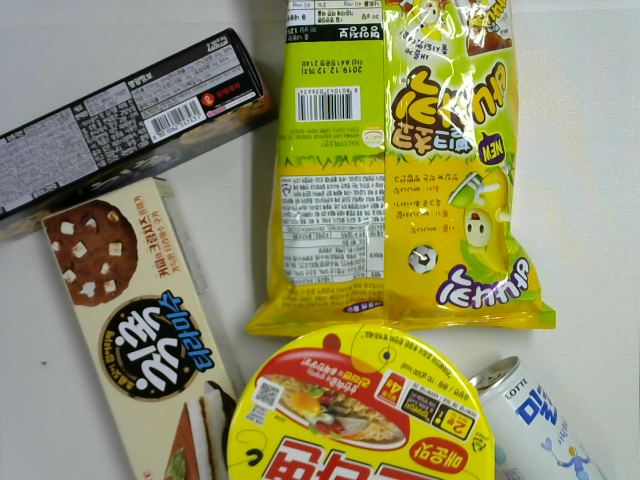Banana_Kick: (240, 1, 563, 350)
Chicchok_Original_2400: (1, 27, 276, 248)
Chicchok_Tiramisu: (33, 176, 252, 480)
Jinlamyeon_Hot_Taste_Large_Cup: (222, 323, 500, 480)
Milkies_250ml: (461, 350, 606, 480)
